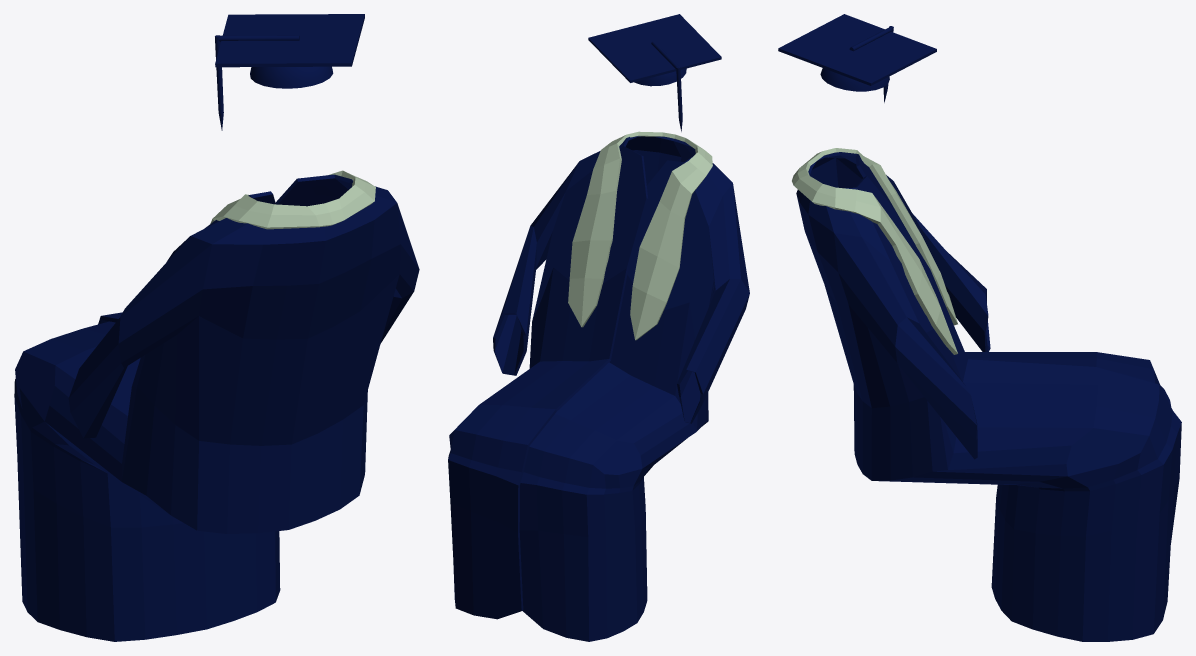
Rendered from gradstudent.fbx.
3 views of the same model, side by side, from view 1: azimuth 30°, elevation 25°; view 2: azimuth 150°, elevation 25°; view 3: azimuth 270°, elevation 25° (orthographic). The views are drawn at different scales.
Visible parts, largest first — view 1: Grid, grad_hat, Grid.001; view 2: Grid, Grid.001, grad_hat; view 3: Grid, grad_hat, Grid.001.
Boxes of the visible parts, x1=… form: Grid: x1=14, y1=174, x2=419, y2=641; grad_hat: x1=215, y1=14, x2=364, y2=130; Grid.001: x1=210, y1=170, x2=375, y2=229; Grid: x1=448, y1=136, x2=749, y2=641; Grid.001: x1=568, y1=131, x2=712, y2=340; grad_hat: x1=588, y1=14, x2=721, y2=131; Grid: x1=796, y1=152, x2=1181, y2=641; grad_hat: x1=778, y1=14, x2=936, y2=102; Grid.001: x1=792, y1=148, x2=957, y2=354.
Size of the model in its own units: 56.28 by 119 by 78.2.
